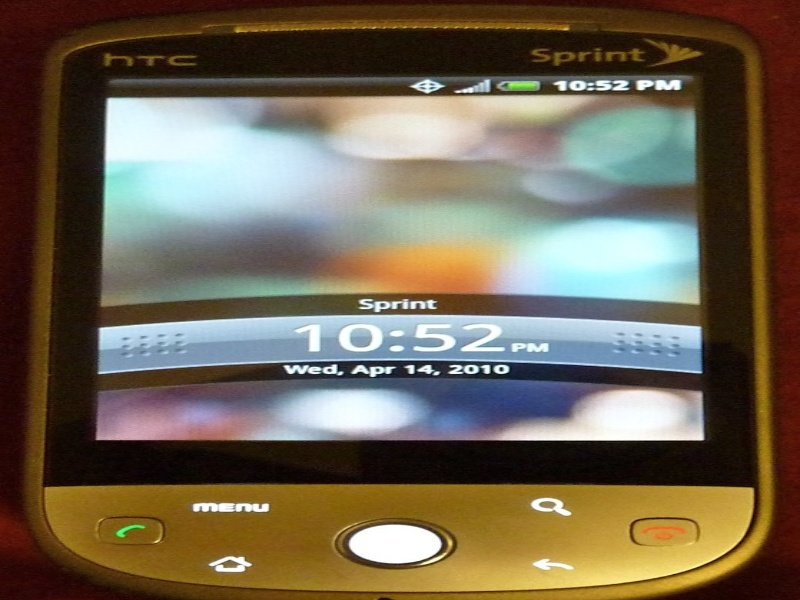cellphone: (41, 20, 768, 598)
